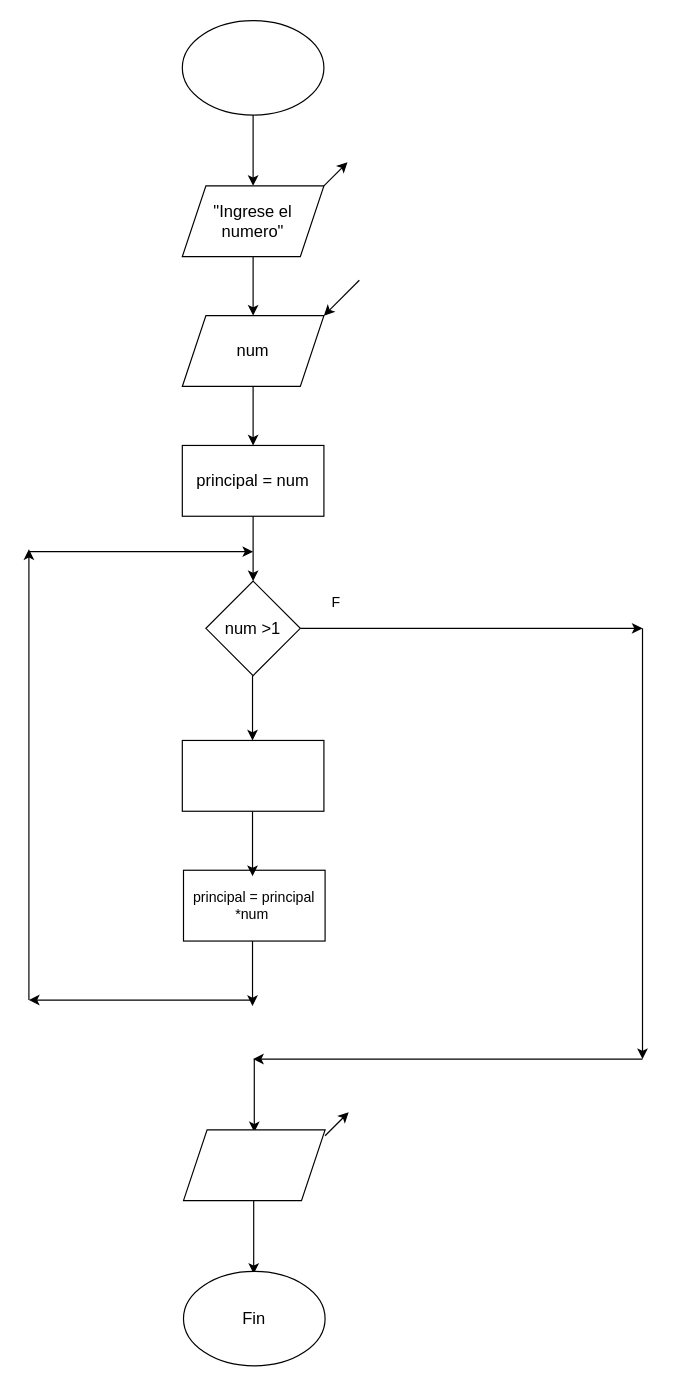
The diagram is 673 pixels wide and 1386 high, and some of its shapes have lost their labels. The shapes that lost their labels are listed below. From the top down, each one's box as (x1, y1, x2, y2) in pixels, then its label:
(181, 19, 324, 115): Inicio
(181, 739, 324, 811): num = num - 1
(182, 1129, 325, 1201): principal
